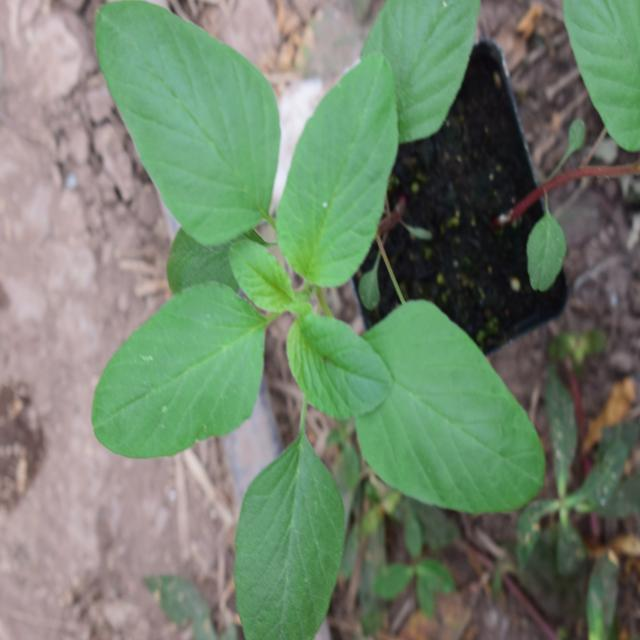pigweed: (97, 5, 518, 599)
